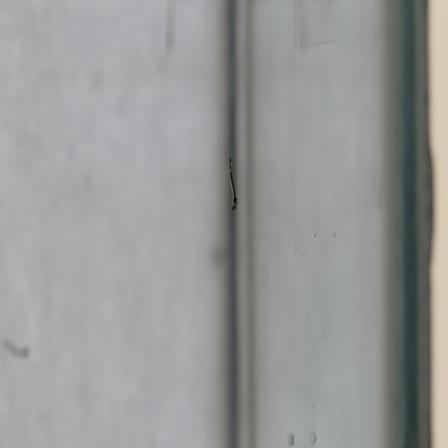Jentik-Nyamuk: (223, 156, 239, 212)
